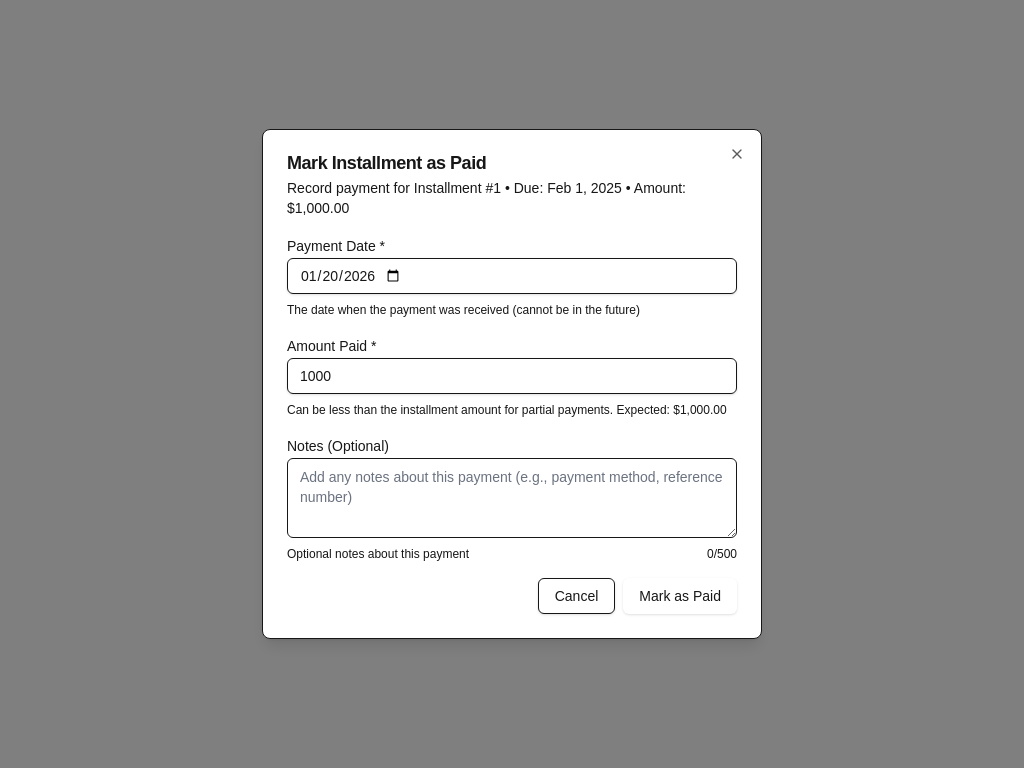
MarkAsPaidModal › Form Validation › should allow valid paid_amount
Clear the number field labelled "Amount Paid *" at (512, 376), box left=287, top=358, right=737, bottom=394
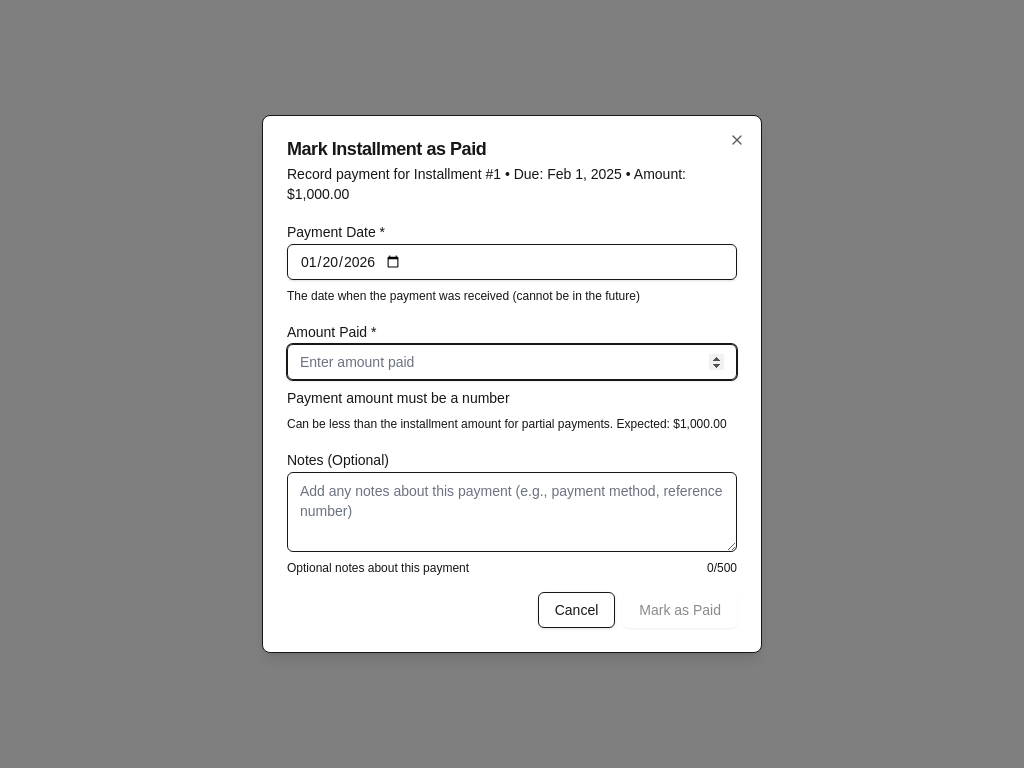
Type "500" into the number field labelled "Amount Paid *".
click(512, 362); type("500")  # box left=287, top=344, right=737, bottom=380
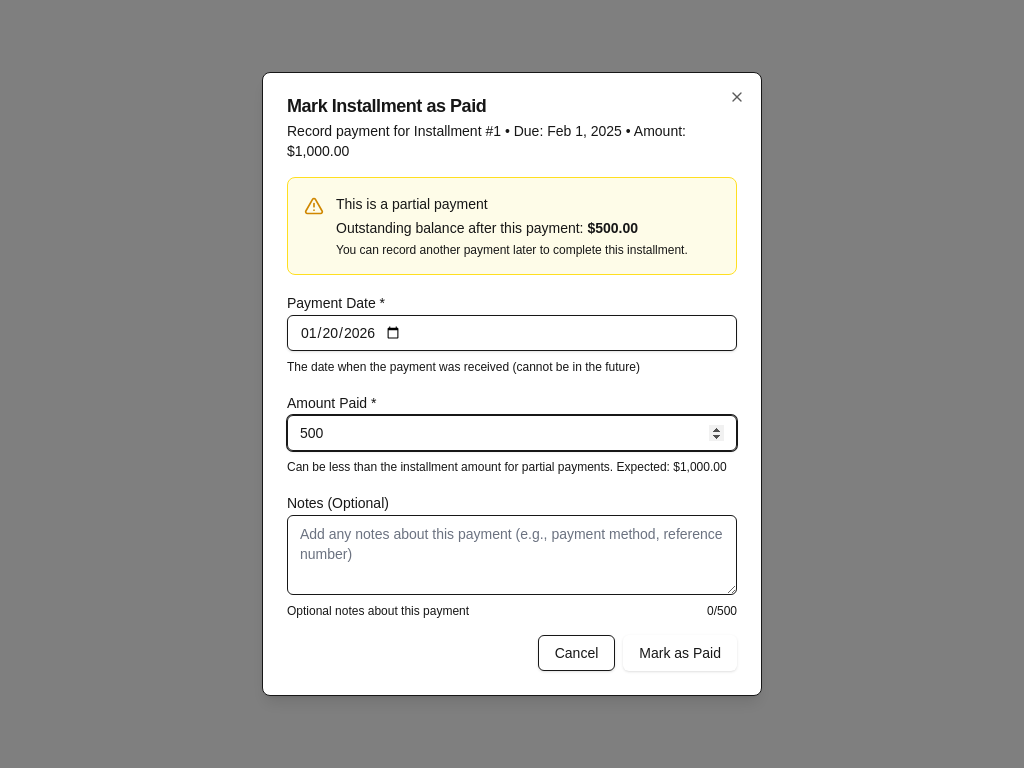
expect the message "Payment amount must be a number" is gone: met
